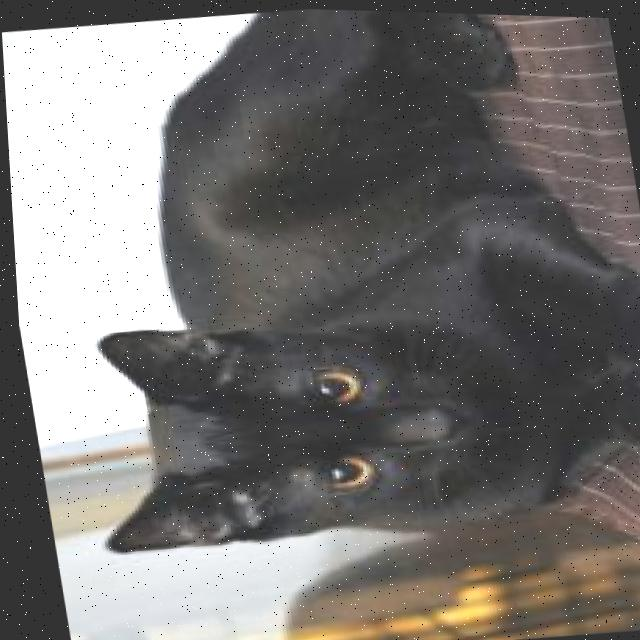Bombay: (10, 0, 640, 572)
